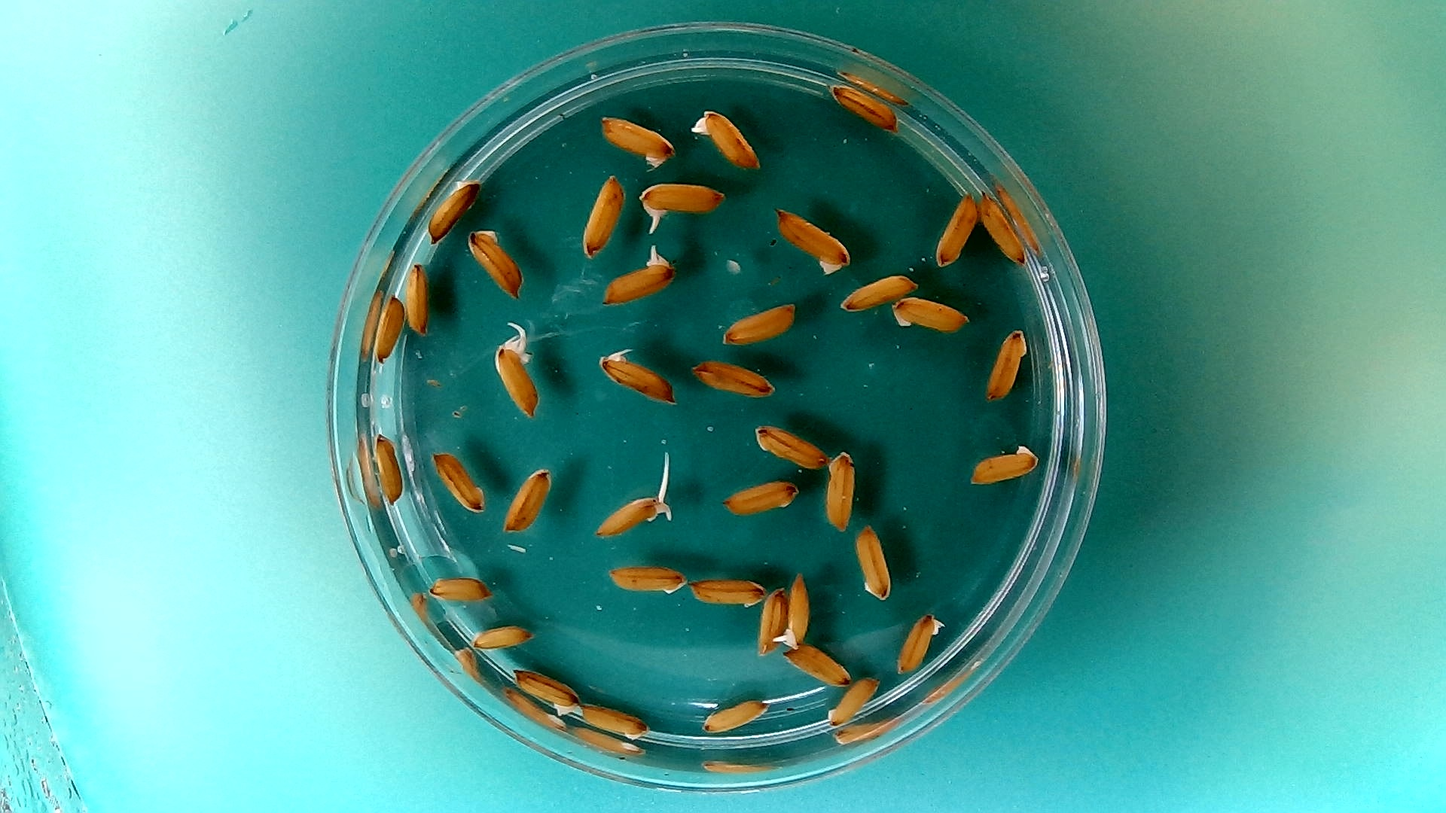no: (770, 202, 852, 275), (593, 344, 678, 406), (465, 222, 526, 300), (596, 111, 678, 168), (578, 169, 628, 257), (428, 446, 487, 514), (426, 171, 480, 244), (509, 665, 584, 717), (976, 190, 1027, 266), (751, 420, 830, 469), (826, 80, 899, 133), (499, 464, 554, 534), (892, 607, 947, 677), (718, 299, 798, 346), (932, 189, 980, 267), (984, 324, 1031, 402), (852, 520, 895, 604), (691, 358, 776, 399), (966, 440, 1041, 486), (837, 270, 920, 311), (780, 642, 853, 688), (721, 480, 800, 522), (889, 293, 970, 333), (603, 559, 688, 597), (824, 672, 881, 727), (579, 699, 651, 741), (822, 446, 856, 532), (699, 694, 770, 735), (688, 574, 767, 609), (371, 428, 407, 504), (371, 291, 406, 365), (426, 570, 496, 604), (752, 586, 784, 658), (468, 619, 537, 652), (403, 259, 430, 336)
yes: (633, 178, 728, 232), (599, 245, 679, 306), (688, 105, 762, 170), (490, 335, 541, 422), (589, 493, 673, 538), (774, 568, 813, 647)
